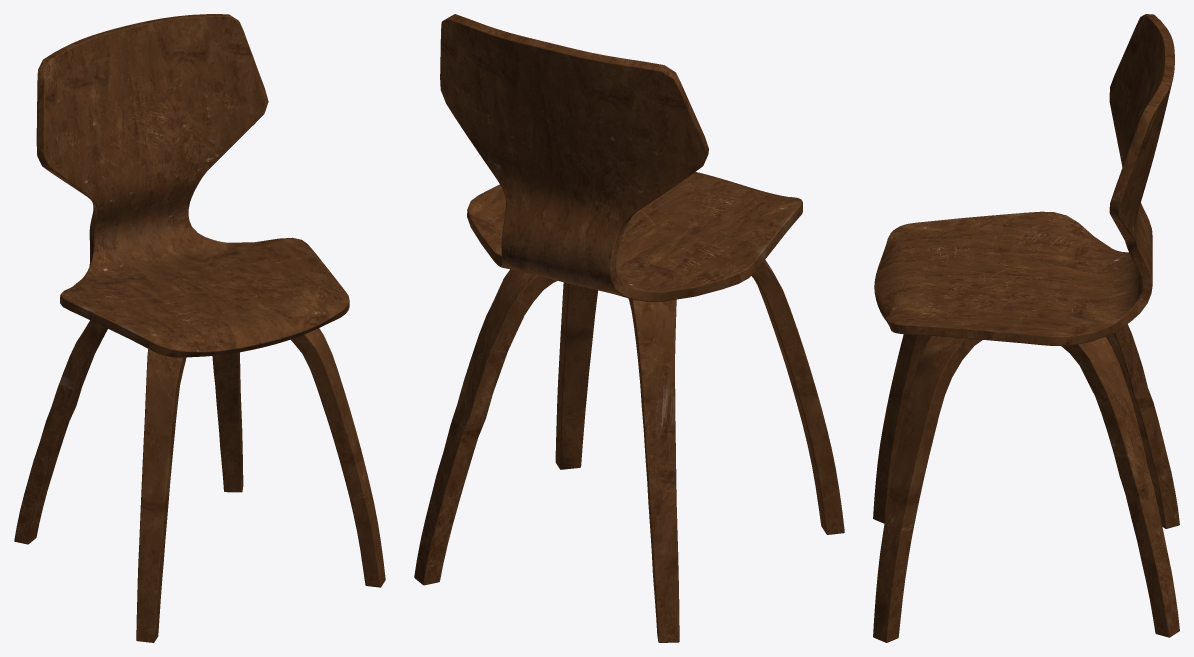
3 renders of one model, left to right at view 1: azimuth 30°, elevation 25°; view 2: azimuth 150°, elevation 25°; view 3: azimuth 270°, elevation 25°, orthographic. The views are drawn at different scales.
Visible parts, largest first — view 1: w_chair; view 2: w_chair; view 3: w_chair.
Boxes of the visible parts, left/top/right/bottom form: w_chair: left=14, top=14, right=385, bottom=642; w_chair: left=414, top=14, right=844, bottom=642; w_chair: left=873, top=14, right=1179, bottom=642.
Size of the model in its own units: 0.5196 by 0.9729 by 0.5189.
Materials: 1 (1 with a texture image).
